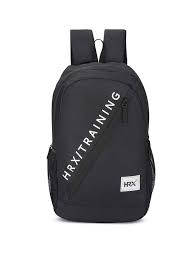backpack: (46, 28, 155, 223)
